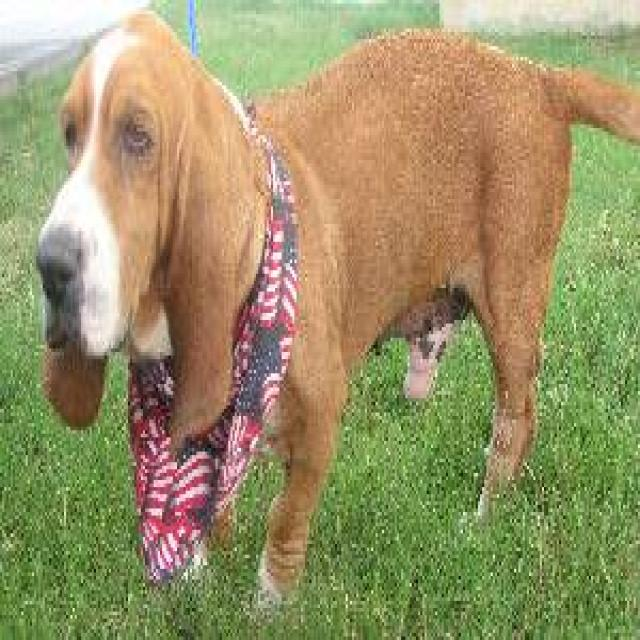dog: (34, 4, 638, 612)
